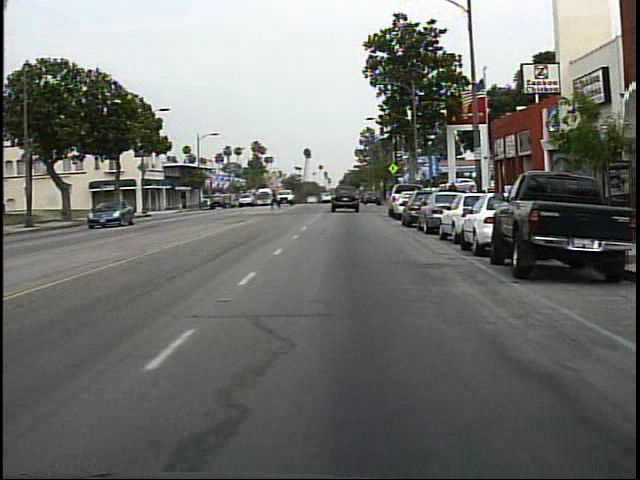person: (443, 178, 463, 218), (269, 185, 283, 214)
